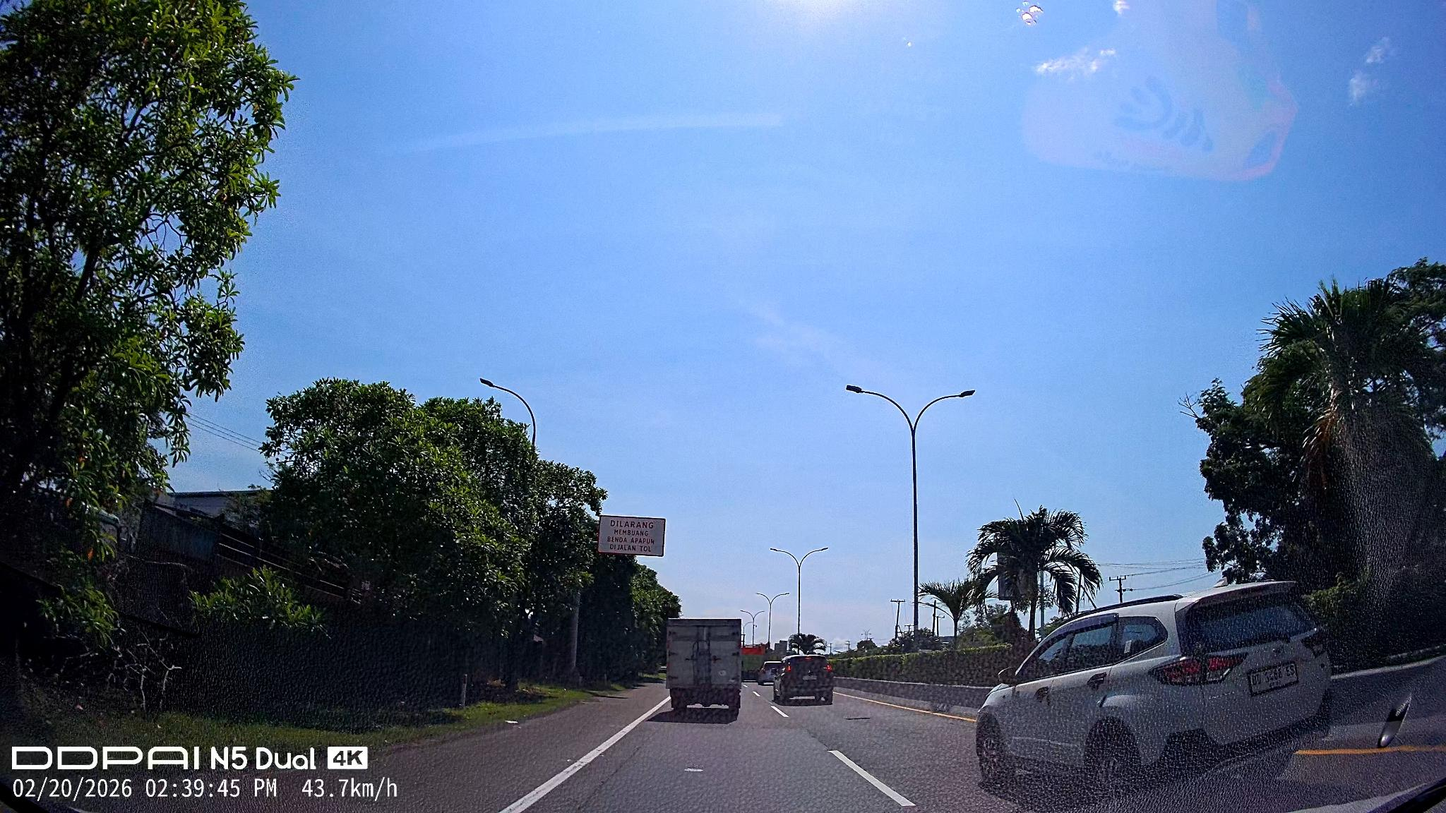rambu_teks: (596, 513, 667, 559)
